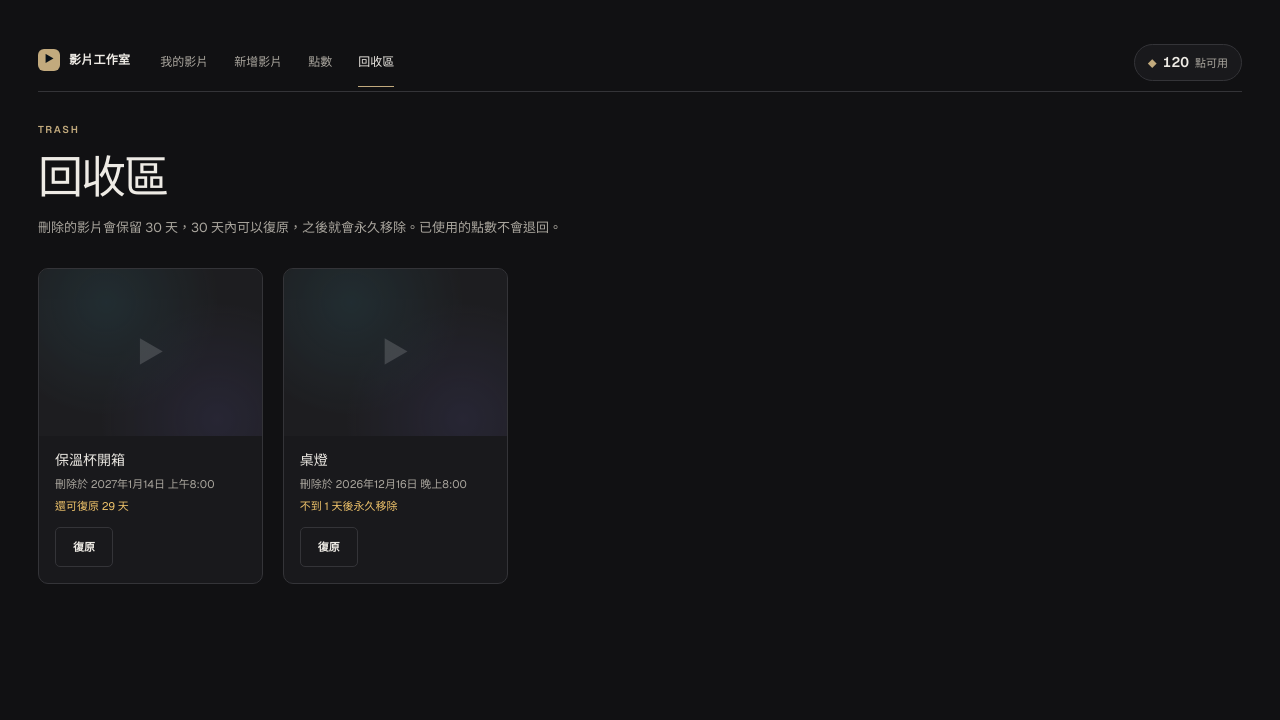
Test: trash › lists deleted videos with the days left and restores one
Expected: the heading "回收區" is shown, [38,148,167,206]
Expected: the text "刪除的影片會保留 30 天，30 天內可以復原，之後就會永久移除。已使用的點數不會退回。" is shown, [38,217,562,240]
Click the button with aria-label "復原「保溫杯開箱」" at (84, 547), box [55,527,113,567]
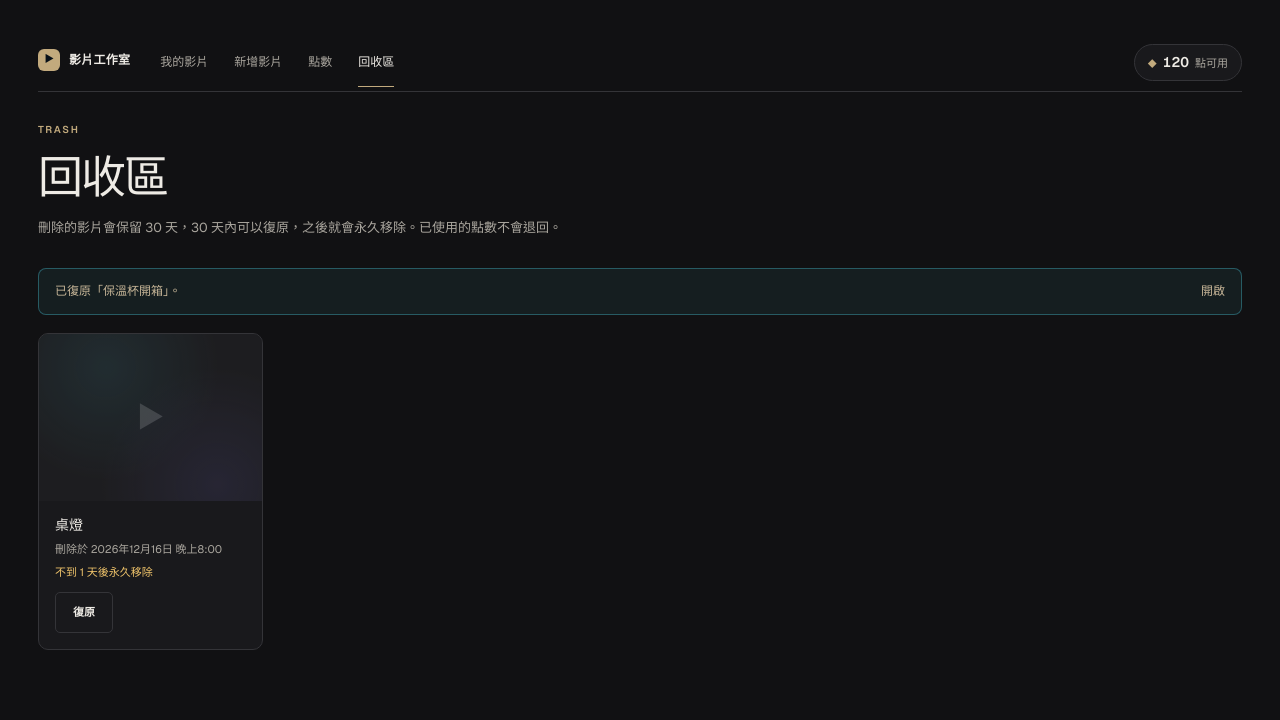
Result: the message shows "已復原「保溫杯開箱」" at [55,282,181,298]
